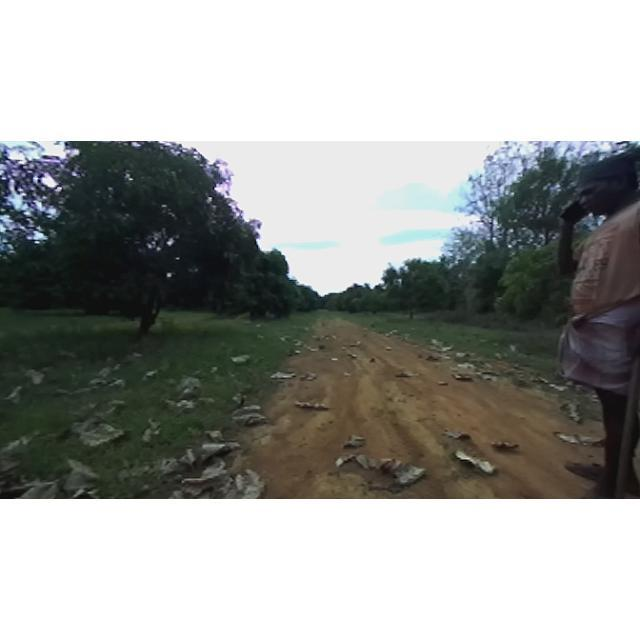tree: (1, 142, 277, 340), (460, 142, 640, 336), (220, 240, 312, 328), (375, 245, 447, 321), (340, 279, 380, 317), (286, 278, 324, 314)
